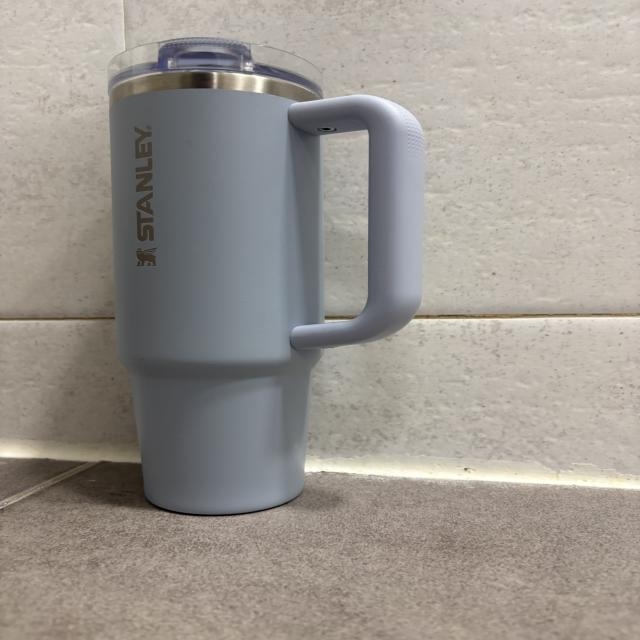waterbottle: (110, 34, 425, 514)
